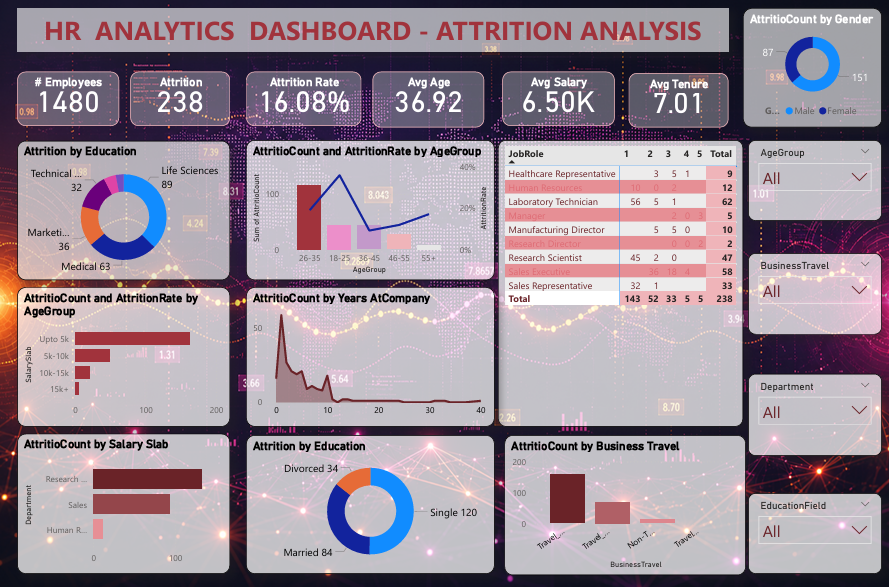

What the dashboard file says about the page in this screenshot:
{"tool":"powerbi","page":{"name":"Page 1","canvas":[1280,843],"ordinal":0},"visuals":[{"type":"textbox","box":[29.9,11.6,1018.9,63.1],"z":0},{"type":"card","title":"# Employees","fields":{"Values":["CountNonNull(HR_Analytics.EmpID)"]},"box":[29.9,102.9,146,78],"z":1000},{"type":"card","title":"Attrition","fields":{"Values":["Sum(HR_Analytics.AttritioCount)"]},"box":[192.5,102.9,142.7,78],"z":2000},{"type":"card","title":"Attrition Rate","fields":{"Values":["HR_Analytics.AttritionRate"]},"box":[358.4,102.9,164.3,78],"z":3000},{"type":"card","title":"Avg Age","fields":{"Values":["Avg(HR_Analytics.Age)"]},"box":[539.3,102.9,159.3,79.7],"z":4000},{"type":"card","title":"Avg Salary","fields":{"Values":["Avg(HR_Analytics.MonthlyIncome)"]},"box":[725.2,102.9,161,78],"z":5000},{"type":"card","title":"Avg Tenure","fields":{"Values":["Avg(HR_Analytics.YearsAtCompany)"]},"box":[906.1,104.5,142.7,78],"z":6000},{"type":"donutChart","title":"AttritioCount by Gender","fields":{"Category":["HR_Analytics.Gender"],"Y":["Sum(HR_Analytics.AttritioCount)"]},"box":[1070.3,11.6,199.1,170.9],"z":7000},{"type":"donutChart","title":"Attrition by Education","fields":{"Category":["HR_Analytics.EducationField","HR_Analytics.YearsAtCompany"],"Y":["Sum(HR_Analytics.AttritioCount)"]},"box":[29.9,202.5,305.3,199.1],"z":8000},{"type":"lineStackedColumnComboChart","title":"AttritioCount and AttritionRate by AgeGroup","fields":{"Category":["HR_Analytics.AgeGroup"],"Y":["Sum(HR_Analytics.AttritioCount)"],"Y2":["HR_Analytics.AttritionRate"]},"box":[358.4,200.8,355.1,200.8],"z":9000},{"type":"pivotTable","fields":{"Values":["Sum(HR_Analytics.AttritioCount)"],"Rows":["HR_Analytics.JobRole"],"Columns":["HR_Analytics.JobLevel"]},"box":[718.5,200.8,351.8,411.5],"z":10000},{"type":"clusteredBarChart","title":"AttritioCount and AttritionRate by AgeGroup","fields":{"Y":["Sum(HR_Analytics.AttritioCount)"],"Category":["HR_Analytics.SalarySlab"]},"box":[29.9,411.5,305.3,200.8],"z":11000},{"type":"areaChart","title":"AttritioCount by Years AtCompany","fields":{"Category":["HR_Analytics.YearsAtCompany"],"Y":["Sum(HR_Analytics.AttritioCount)"]},"box":[358.4,411.5,355.1,200.8],"z":12000},{"type":"clusteredBarChart","title":"AttritioCount by Salary Slab","fields":{"Y":["Sum(HR_Analytics.AttritioCount)"],"Category":["HR_Analytics.Department"]},"box":[29.9,622.3,305.3,200.8],"z":12001},{"type":"donutChart","title":"Attrition by Education","fields":{"Y":["Sum(HR_Analytics.AttritioCount)"],"Category":["HR_Analytics.MaritalStatus"]},"box":[358.4,624,355.1,199.1],"z":12002},{"type":"columnChart","title":"AttritioCount by Business Travel","fields":{"Category":["HR_Analytics.BusinessTravel"],"Y":["Sum(HR_Analytics.AttritioCount)"]},"box":[728.5,624,345.2,200.8],"z":12003},{"type":"slicer","fields":{"Values":["HR_Analytics.AgeGroup"]},"box":[1077,200.8,192.5,116.2],"z":12004},{"type":"slicer","fields":{"Values":["HR_Analytics.BusinessTravel"]},"box":[1077,363.4,192.5,116.2],"z":12005},{"type":"slicer","fields":{"Values":["HR_Analytics.Department"]},"box":[1077,536,192.5,117.8],"z":12006},{"type":"slicer","fields":{"Values":["HR_Analytics.EducationField"]},"box":[1077,706.9,192.5,116.2],"z":12007}]}

Visuals, with their boxes in screenshot pixels (x1, y1, x2, y2), scaled from the page's 1280x843 canvas onto the 889x587 screenshot:
textbox: box(21, 8, 728, 52)
"# Employees" card: box(21, 72, 122, 126)
"Attrition" card: box(134, 72, 233, 126)
"Attrition Rate" card: box(249, 72, 363, 126)
"Avg Age" card: box(375, 72, 485, 127)
"Avg Salary" card: box(504, 72, 615, 126)
"Avg Tenure" card: box(629, 73, 728, 127)
"AttritioCount by Gender" donutChart: box(743, 8, 882, 127)
"Attrition by Education" donutChart: box(21, 141, 233, 280)
"AttritioCount and AttritionRate by AgeGroup" lineStackedColumnComboChart: box(249, 140, 496, 280)
pivotTable - Sum(HR_Analytics.AttritioCount) x HR_Analytics.JobRole: box(499, 140, 743, 426)
"AttritioCount and AttritionRate by AgeGroup" clusteredBarChart: box(21, 287, 233, 426)
"AttritioCount by Years AtCompany" areaChart: box(249, 287, 496, 426)
"AttritioCount by Salary Slab" clusteredBarChart: box(21, 433, 233, 573)
"Attrition by Education" donutChart: box(249, 435, 496, 573)
"AttritioCount by Business Travel" columnChart: box(506, 435, 746, 574)
slicer - HR_Analytics.AgeGroup: box(748, 140, 882, 221)
slicer - HR_Analytics.BusinessTravel: box(748, 253, 882, 334)
slicer - HR_Analytics.Department: box(748, 373, 882, 455)
slicer - HR_Analytics.EducationField: box(748, 492, 882, 573)
